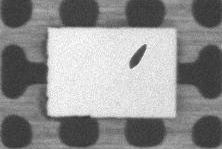DIE_INK: (129, 43, 147, 69)
